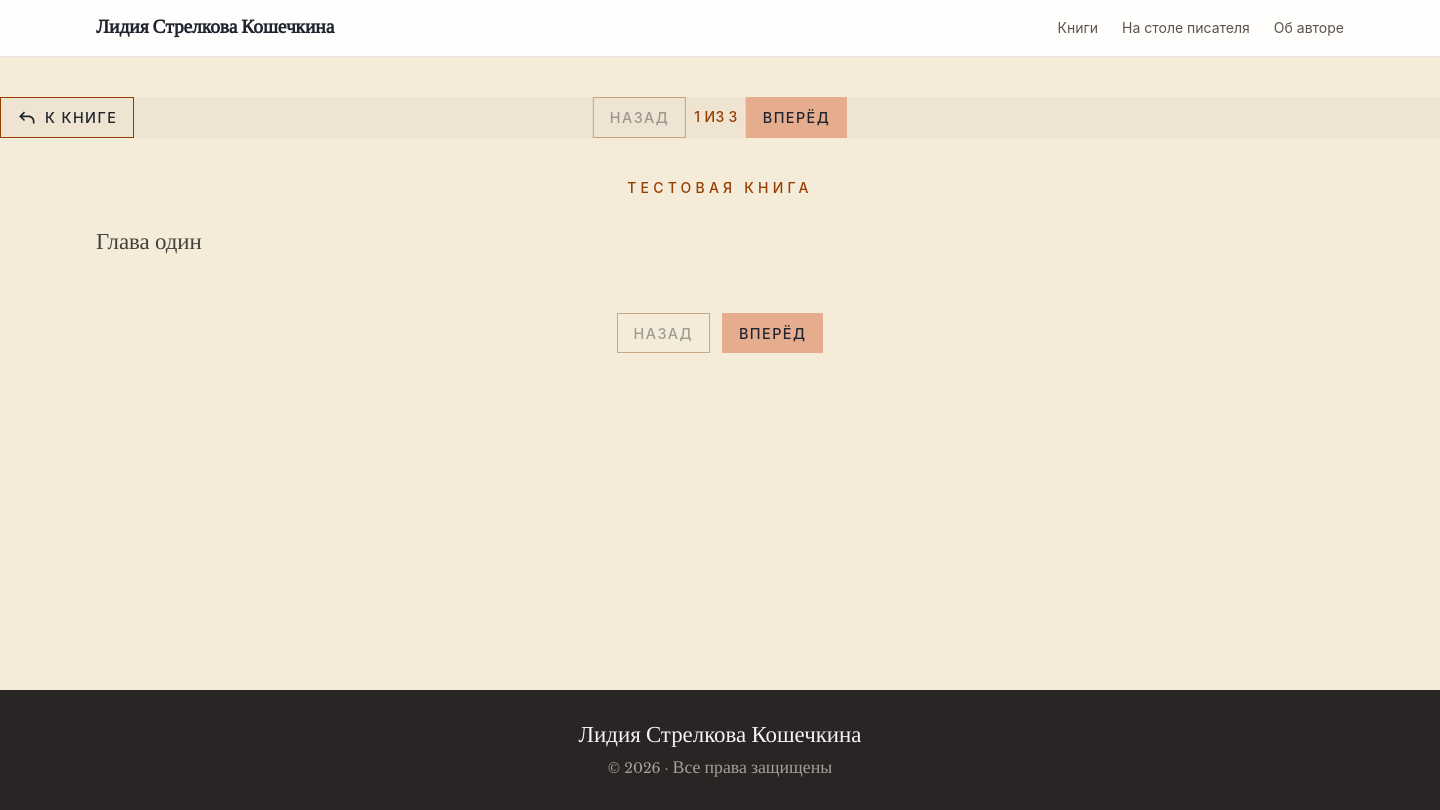
Test case: Fragment › navigates to the next chapter
This screenshot has width=1440, height=810.
Click the button "Вперёд" in the row of "из" at (796, 117), box left=746, top=97, right=847, bottom=138
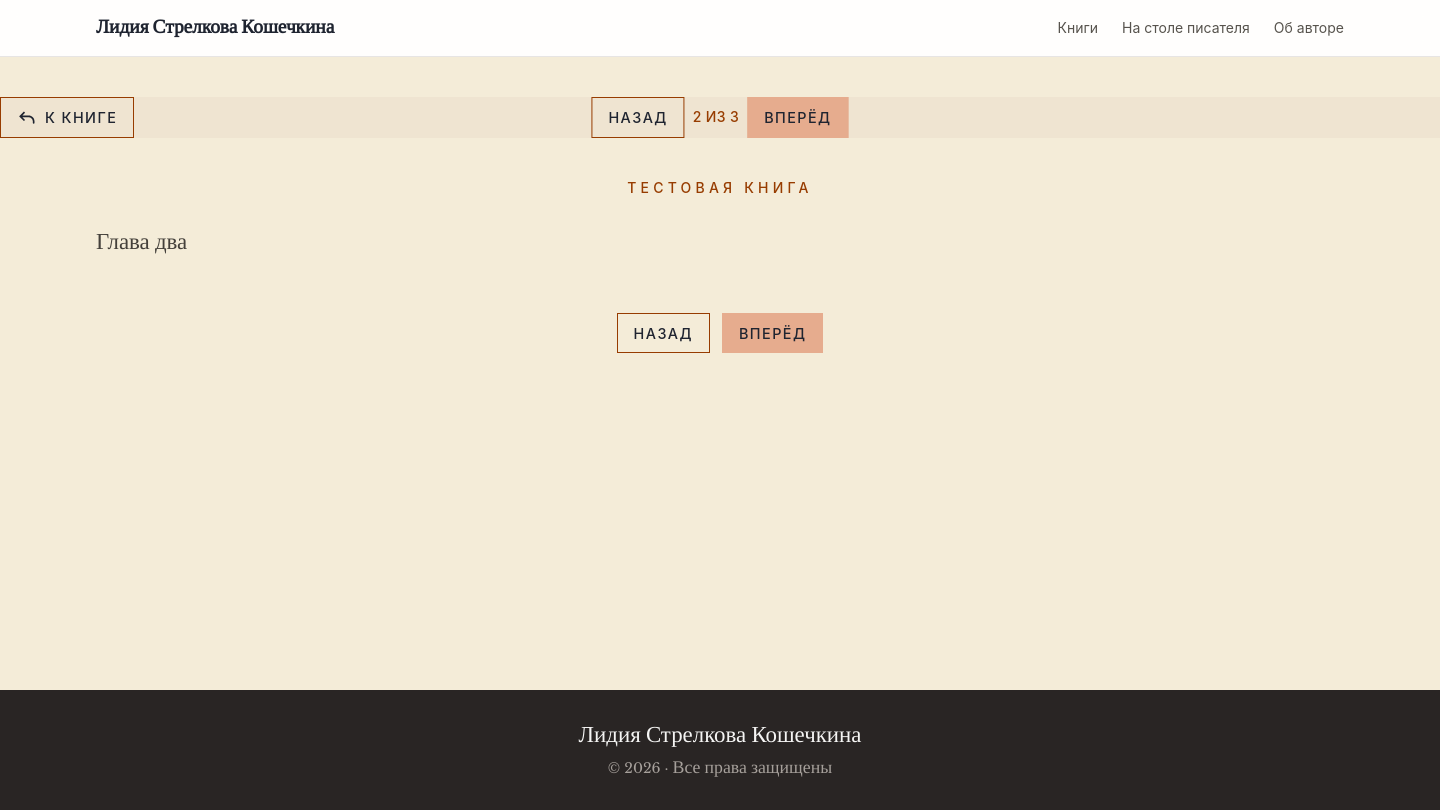
Expected: the text "2 из 3" is shown, left=693, top=107, right=739, bottom=127
Expected: the text "Глава два" is shown, left=96, top=232, right=187, bottom=254
